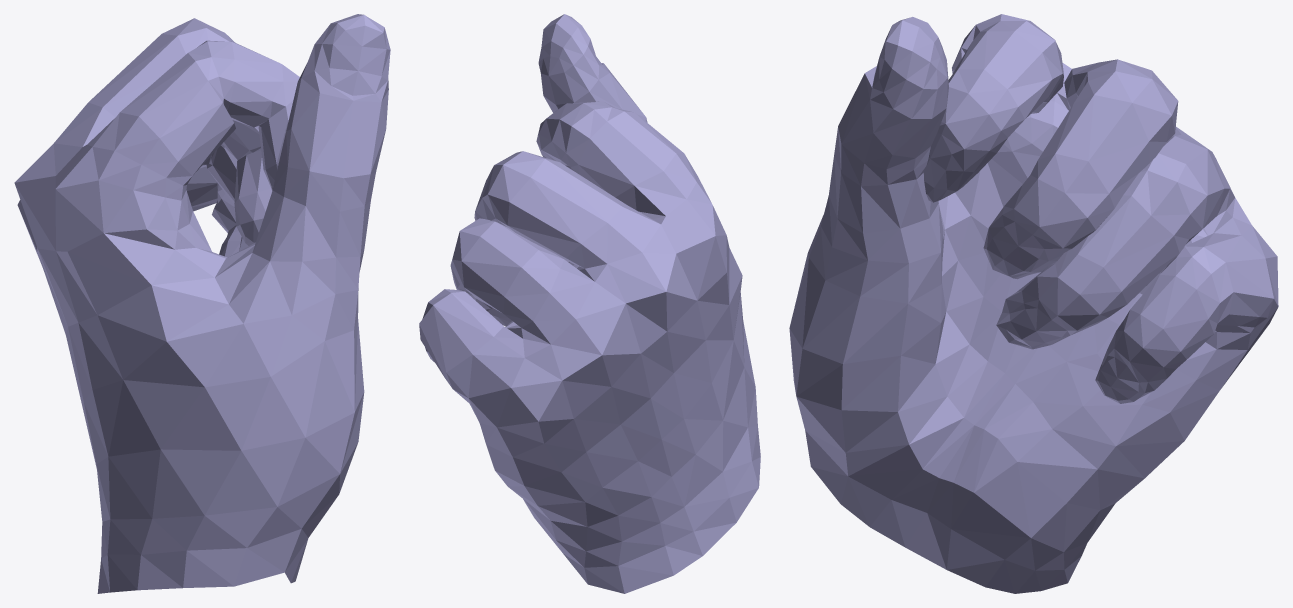
The model's file is frame_0042_source_000042_hand.glb.
3 views of the same model, side by side, from view 1: azimuth 30°, elevation 25°; view 2: azimuth 150°, elevation 25°; view 3: azimuth 270°, elevation 25° (orthographic). The views are drawn at different scales.
Visible parts, largest first — view 1: world; view 2: world; view 3: world.
Boxes of the visible parts, bbox=[...] form: world: bbox=[14, 14, 390, 593]; world: bbox=[419, 14, 760, 593]; world: bbox=[789, 14, 1278, 593].
Size of the model in its own units: 0.0618 by 0.1261 by 0.0905.
